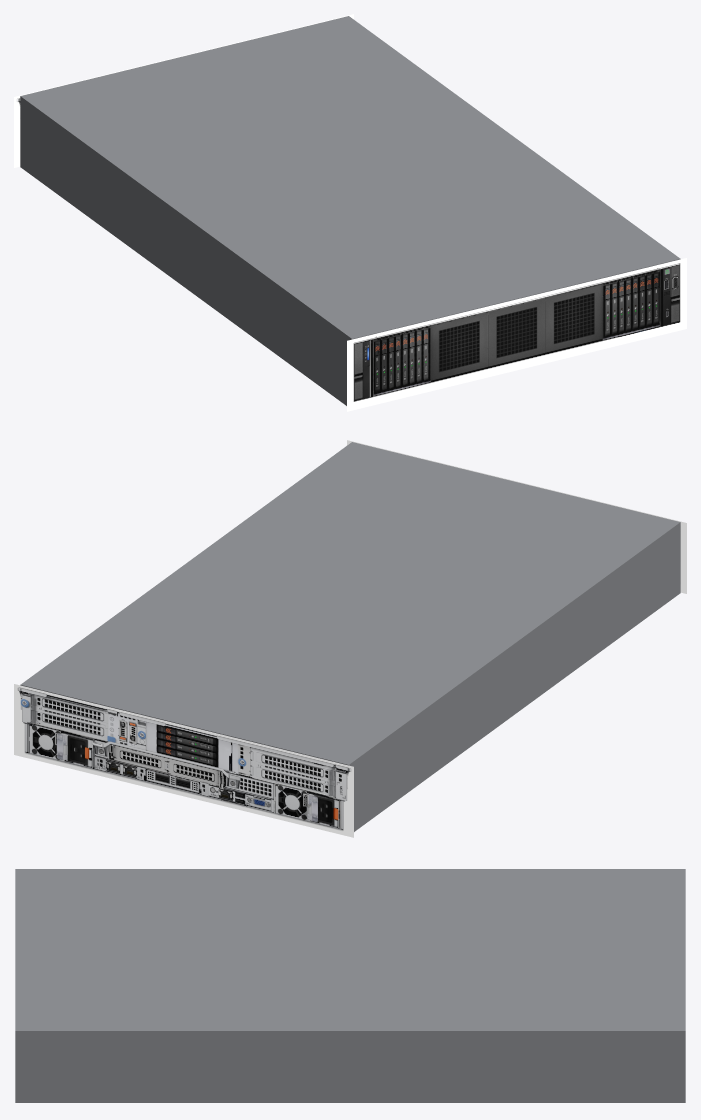
The model's file is dell-poweredge-r760.glb.
The picture shows the model from 3 angles, top to bottom: view 1: azimuth 30°, elevation 25°; view 2: azimuth 150°, elevation 25°; view 3: azimuth 270°, elevation 25°; orthographic projection.
Visible parts, largest first — view 1: DELL_Chassis, DELL_Front, DELL_Rear; view 2: DELL_Chassis, DELL_Rear, DELL_Front; view 3: DELL_Chassis.
Part boxes in pixels (left/top/right/bottom): DELL_Chassis: left=20, top=16, right=680, bottom=405; DELL_Front: left=347, top=258, right=686, bottom=411; DELL_Rear: left=14, top=14, right=353, bottom=167; DELL_Chassis: left=20, top=442, right=680, bottom=831; DELL_Rear: left=14, top=684, right=353, bottom=837; DELL_Front: left=347, top=440, right=686, bottom=593; DELL_Chassis: left=15, top=869, right=685, bottom=1102.
Bounding box in the file's own units: 0.445 × 0.0889 × 0.755.
Materials: 3 (2 with a texture image).
